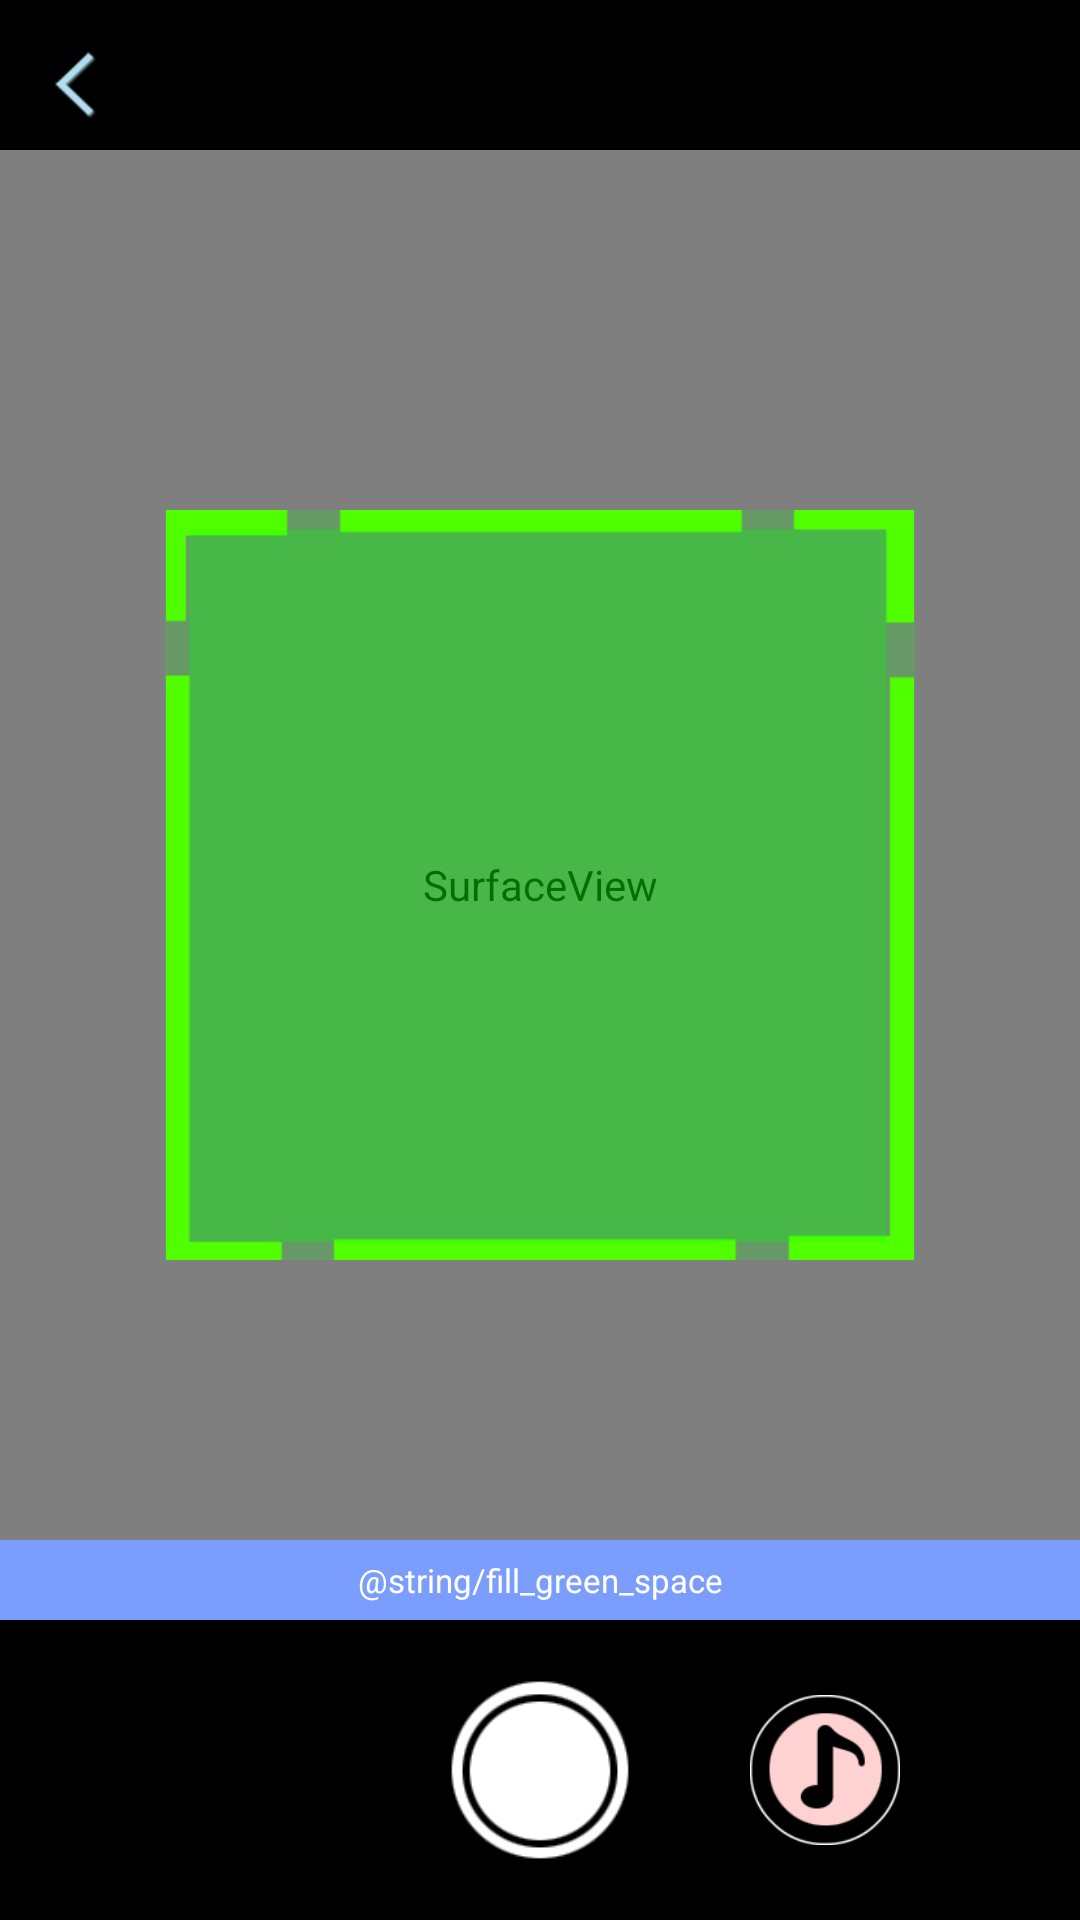

Locate icon controls on the screen. Image size 1080×1920, boxes as bbox=(x1, y1, x2, y2).
audio trigger: bbox=(750, 1695, 900, 1845)
camera shater: bbox=(451, 1681, 629, 1859)
top back: bbox=(55, 52, 95, 117)
